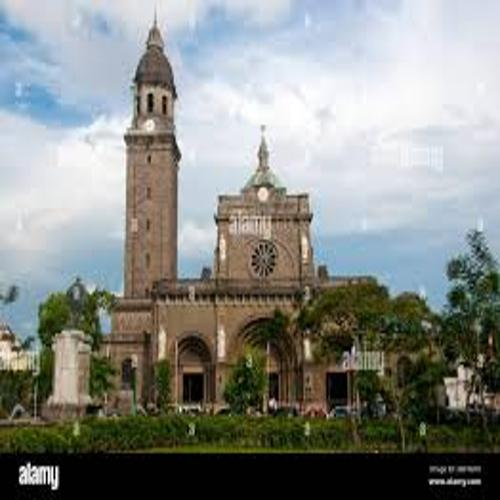Manila Cathedral Church: (50, 3, 414, 416)
